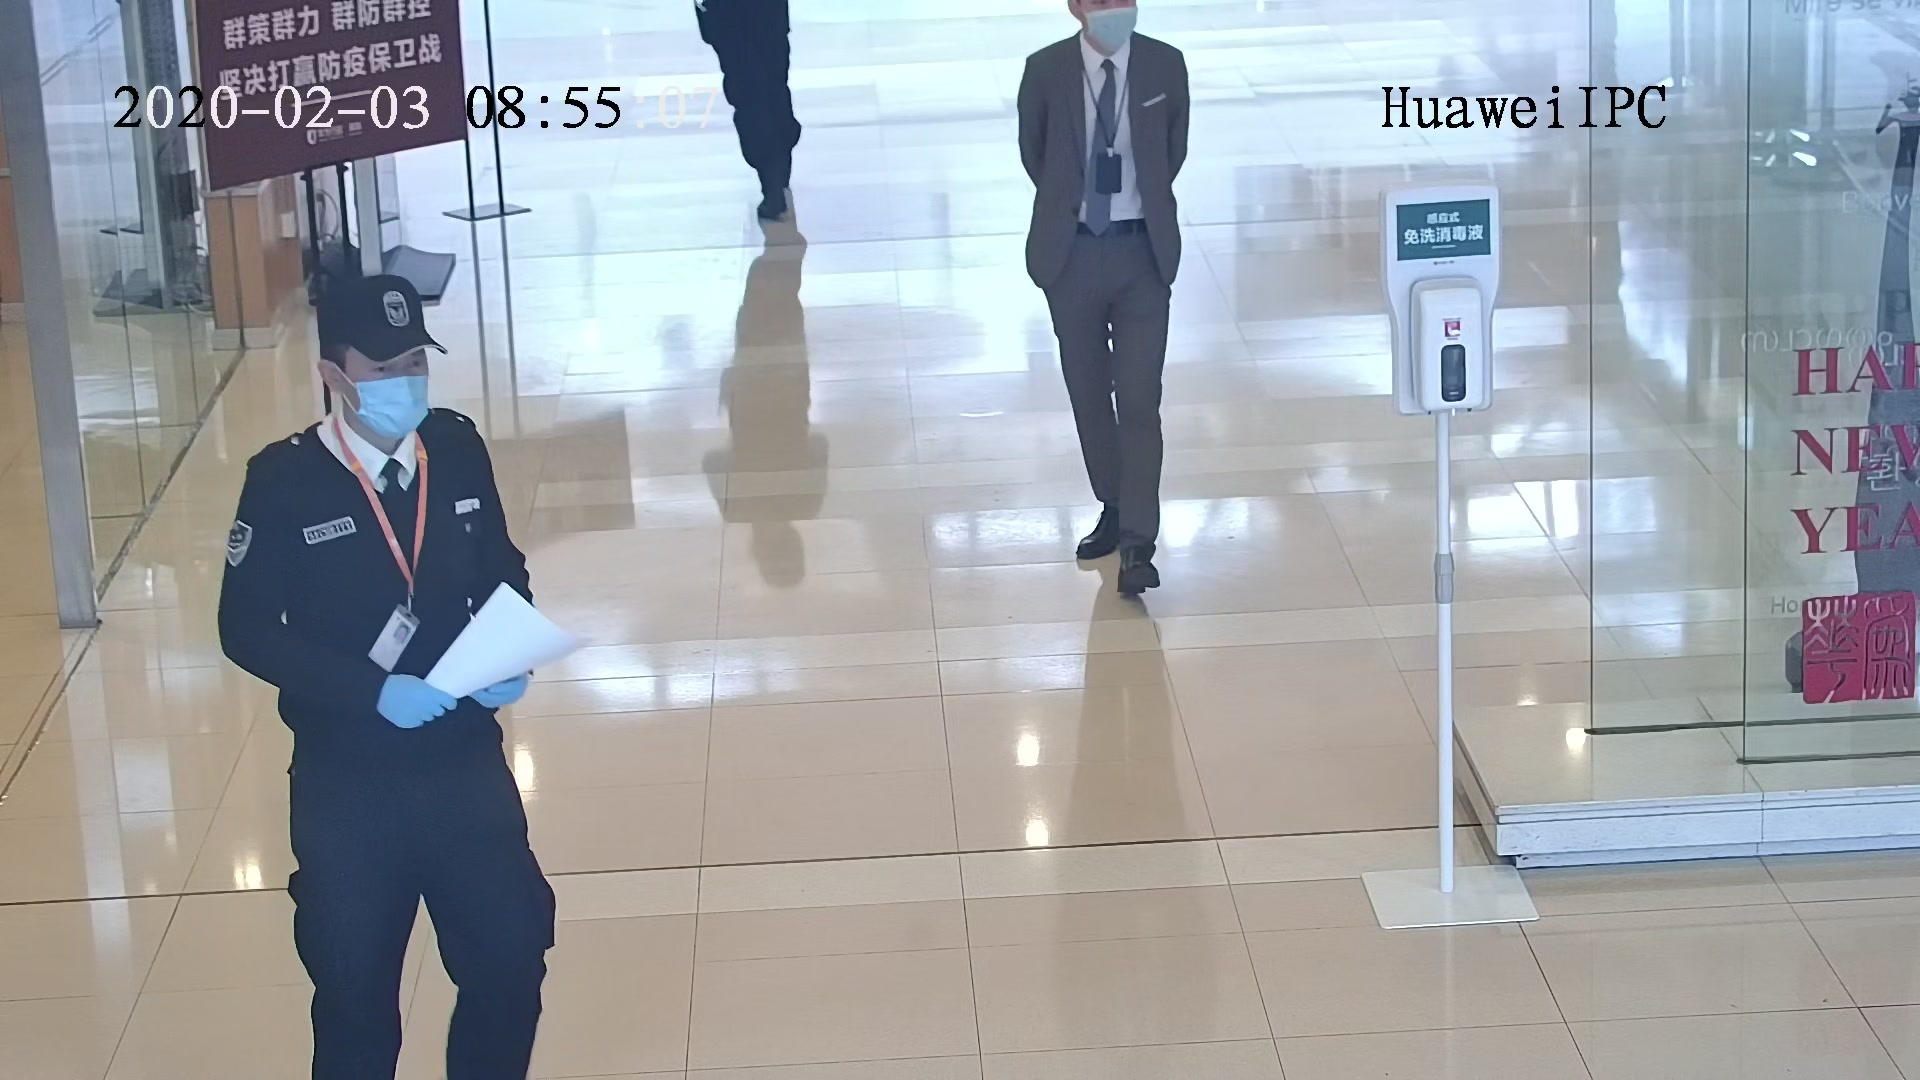face: (342, 354, 432, 442)
mask: (356, 378, 432, 438), (1080, 1, 1140, 54)
person: (232, 230, 497, 557), (1020, 2, 1186, 106)
